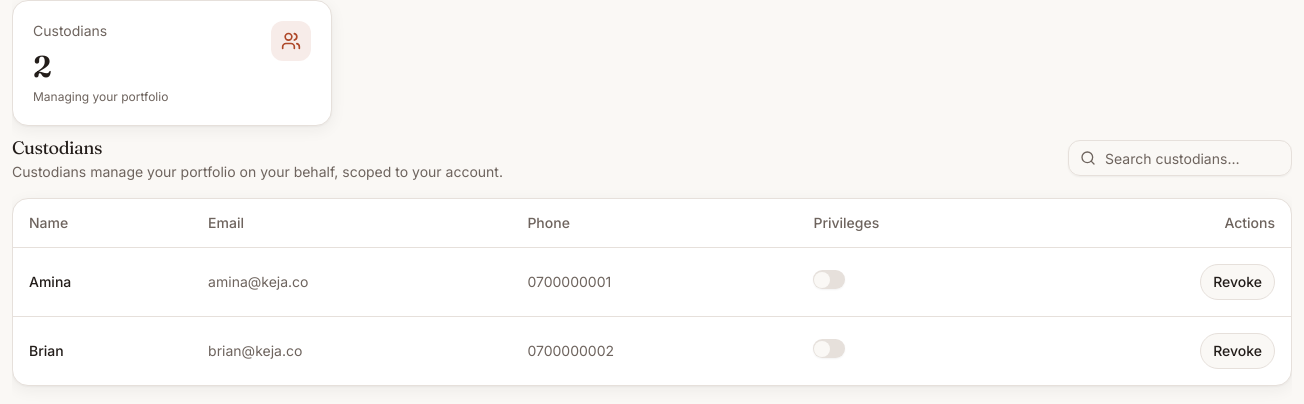
Test case: CustodianManager › filters custodians by the search box
Expected: the text "Amina" is shown, [29,272,71,290]
Expected: the text "Brian" is shown, [29,342,64,358]
In the field with placeholder "Search custodians…": (1180, 158) [1068,140,1292,176], type "brian@"
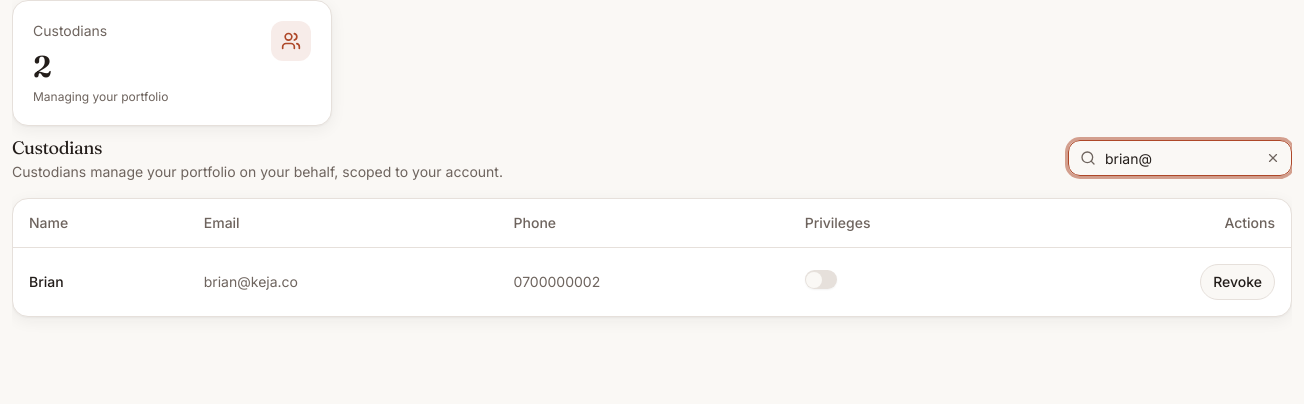
Expected: the text "Brian" is shown, [29,272,64,290]
Expected: the text "Amina" is gone
